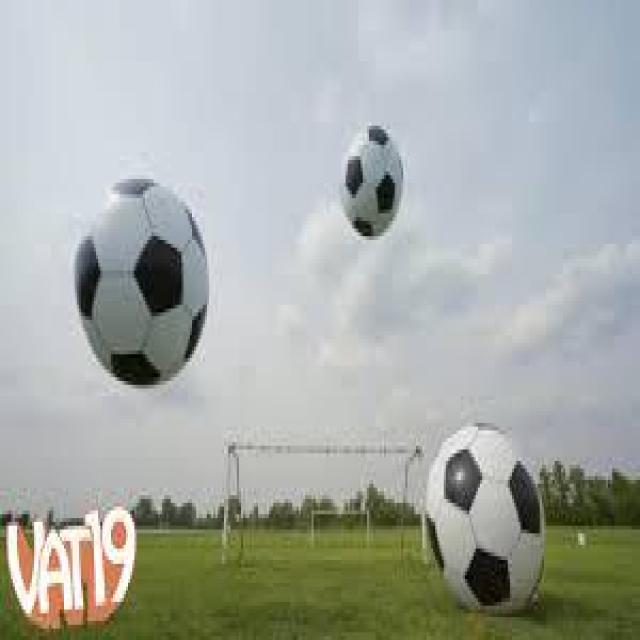Soccer Ball: (77, 175, 207, 396), (344, 118, 401, 240)
